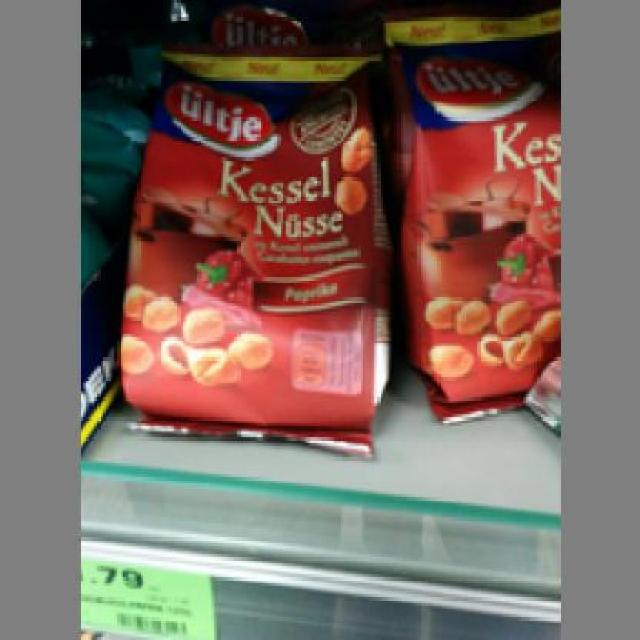Nuts: (115, 0, 392, 457), (383, 0, 554, 426)
